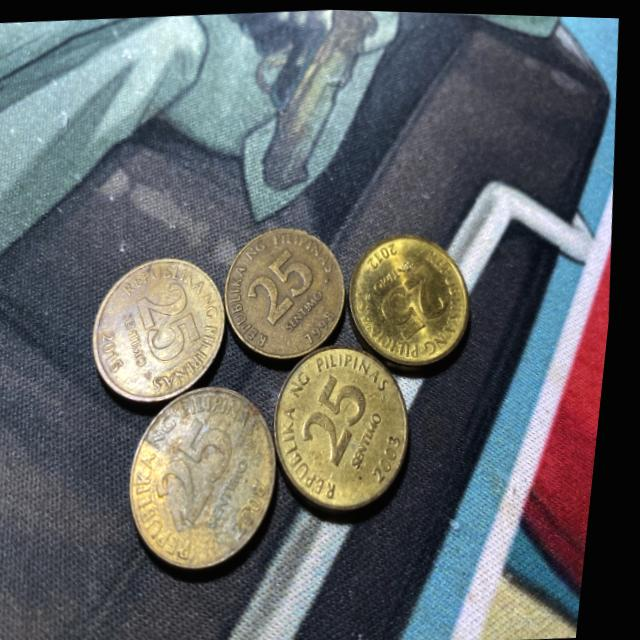25Cent_Old_Front: (160, 416, 249, 525), (134, 273, 216, 364), (305, 370, 378, 464), (244, 242, 324, 327), (381, 258, 457, 338)
